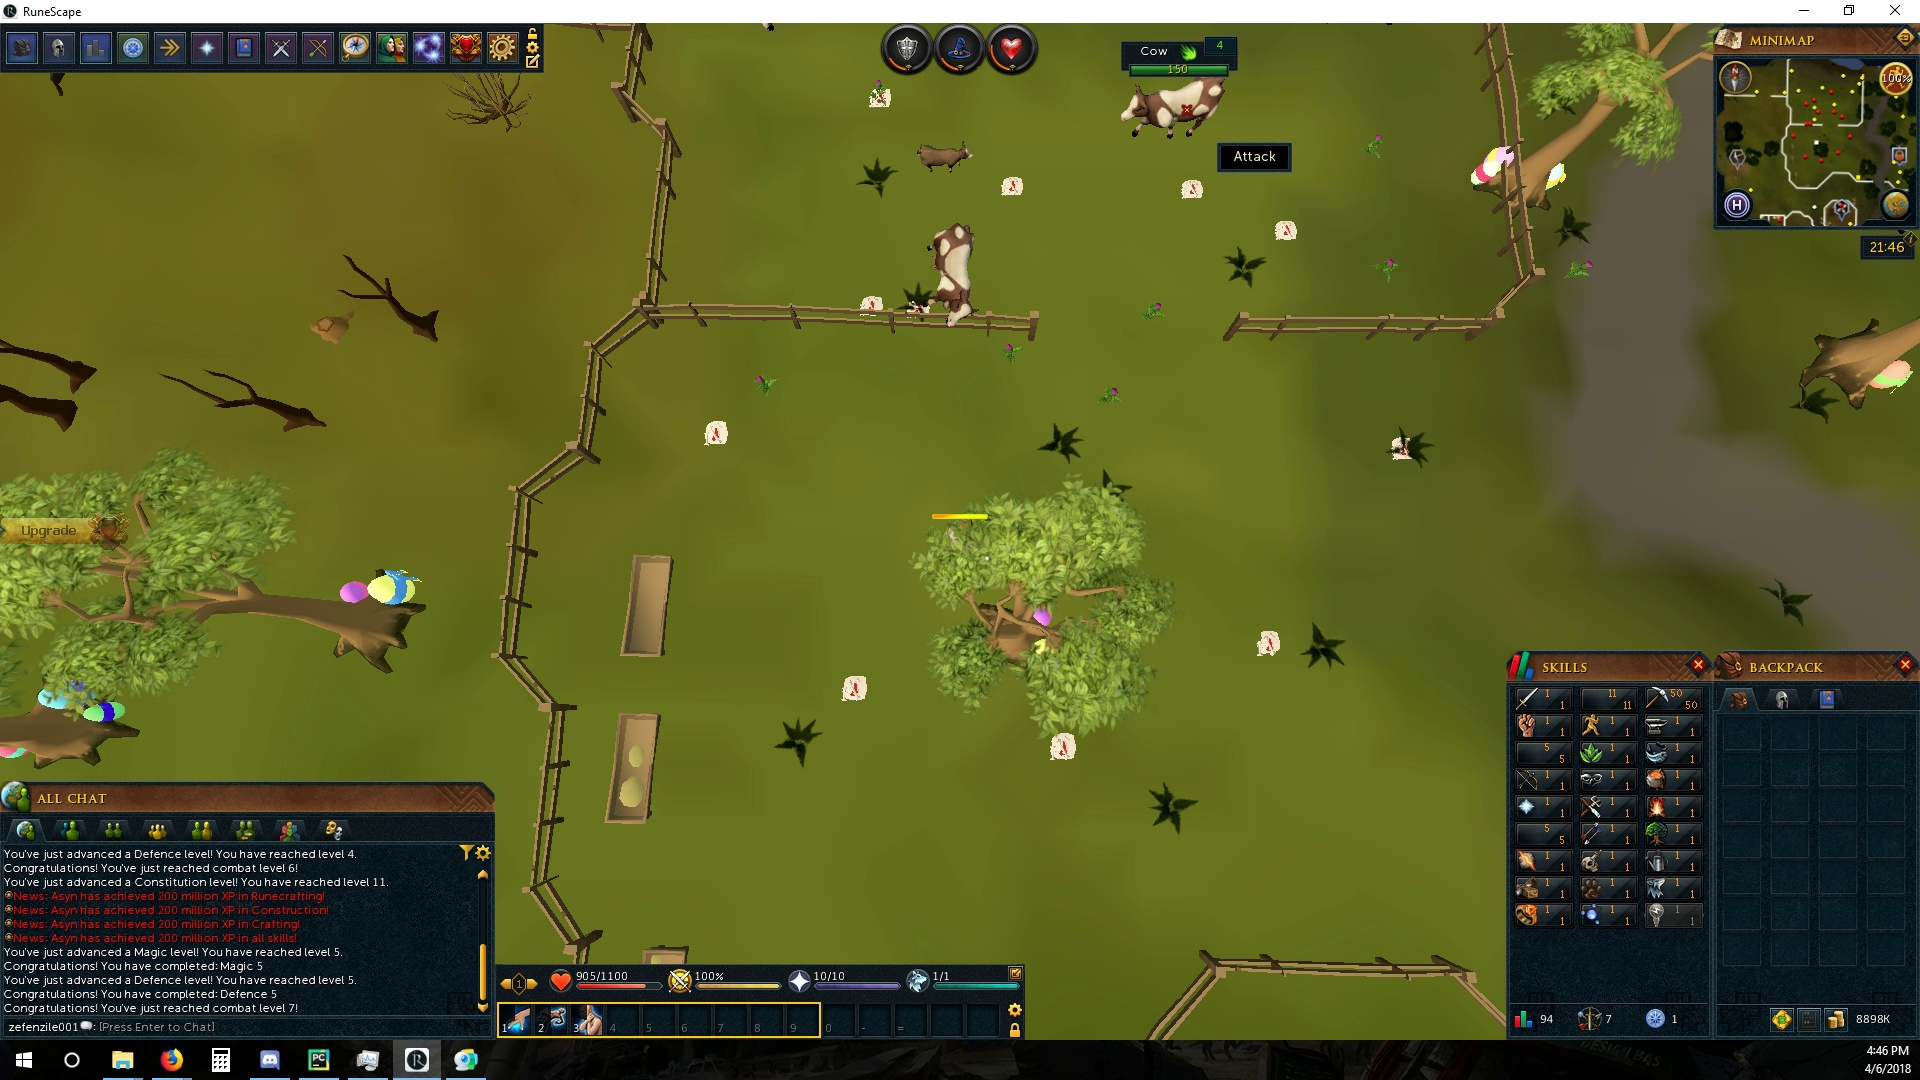calf: (913, 140, 975, 171)
cow: (1116, 79, 1238, 142), (922, 222, 981, 331)
cow_drop: (1048, 733, 1081, 771), (866, 84, 901, 113), (698, 419, 729, 448), (1386, 436, 1422, 462), (839, 674, 869, 703), (1270, 218, 1300, 244), (1255, 626, 1280, 658), (998, 174, 1029, 198), (1176, 175, 1207, 198), (858, 291, 885, 316)
